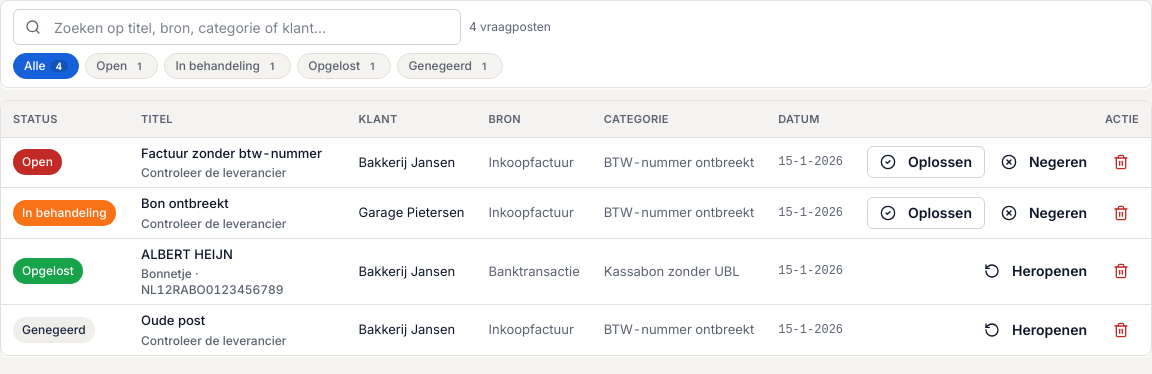
Test: Vraagposten overzicht › filtert op status Open
Click the button "Open 1": (122, 66) [85,53,158,79]
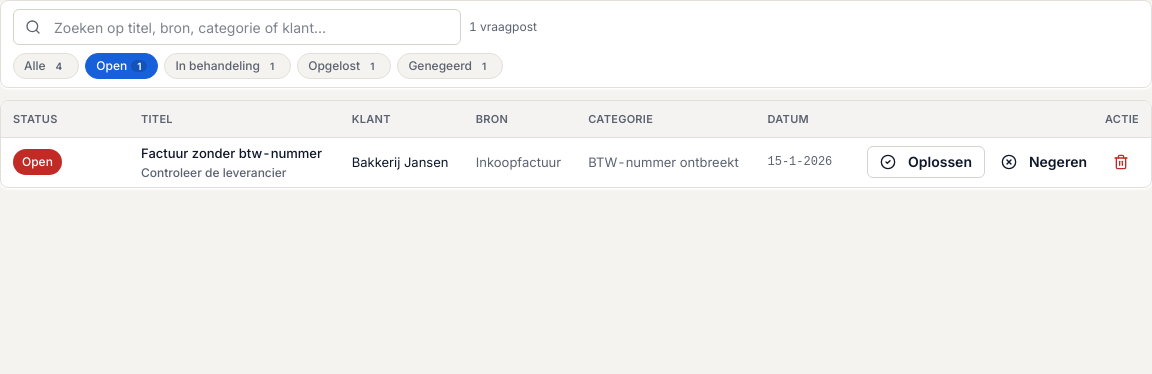
Expected: the text "Factuur zonder btw-nummer" is shown, [141,144,328,163]
Result: the number of rows is 2 at [1,101,1151,137]; [1,137,1151,187]
